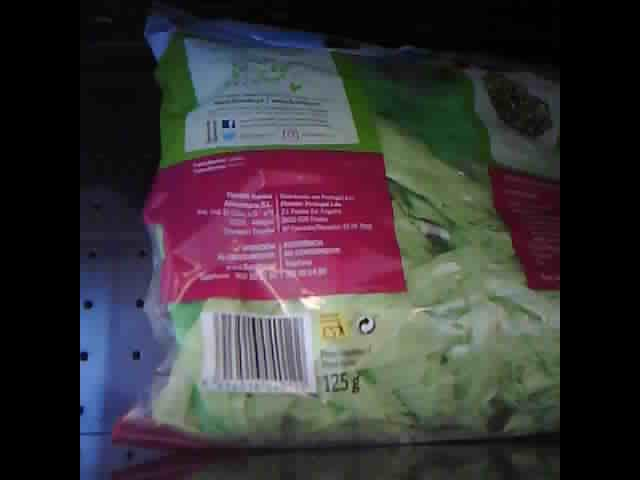florette: (109, 14, 557, 456)
